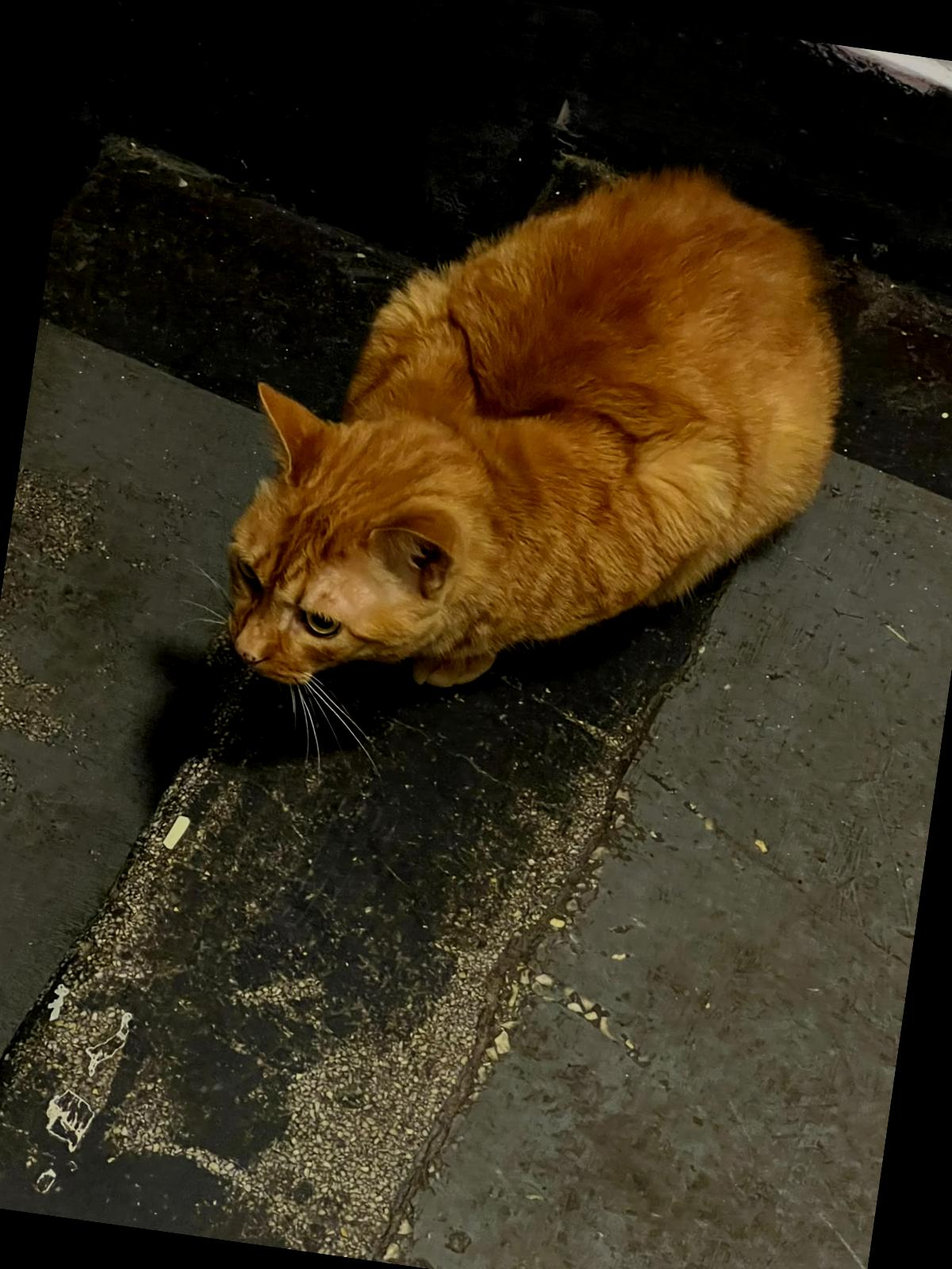macka: (203, 110, 873, 754)
